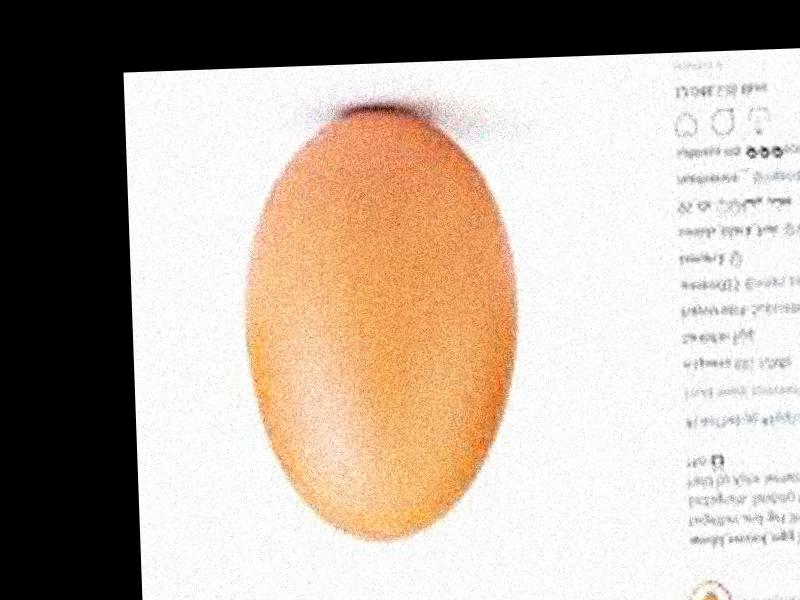Eggs: (235, 109, 523, 545)
